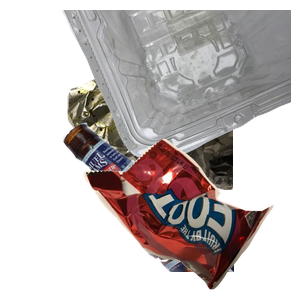glass: (60, 120, 300, 300)
metal: (60, 10, 300, 190)
plastic: (60, 10, 300, 162)
trash: (81, 136, 300, 300)
